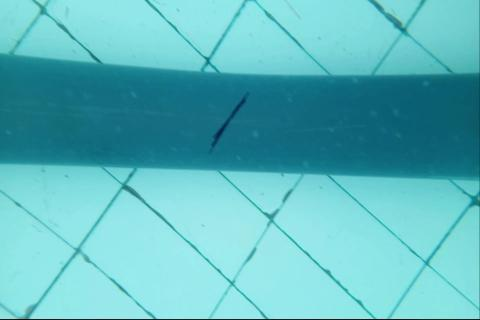keretakan: (208, 94, 248, 150)
